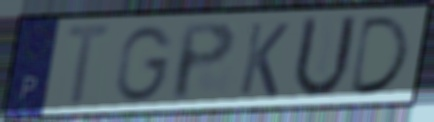D: (346, 13, 413, 99)
G: (113, 23, 176, 104)
K: (235, 20, 293, 100)
P: (169, 19, 239, 105)
T: (61, 21, 118, 110)
U: (289, 13, 361, 103)
